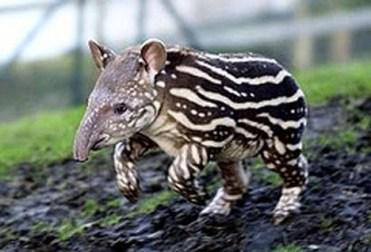Anta: (67, 33, 317, 226)
